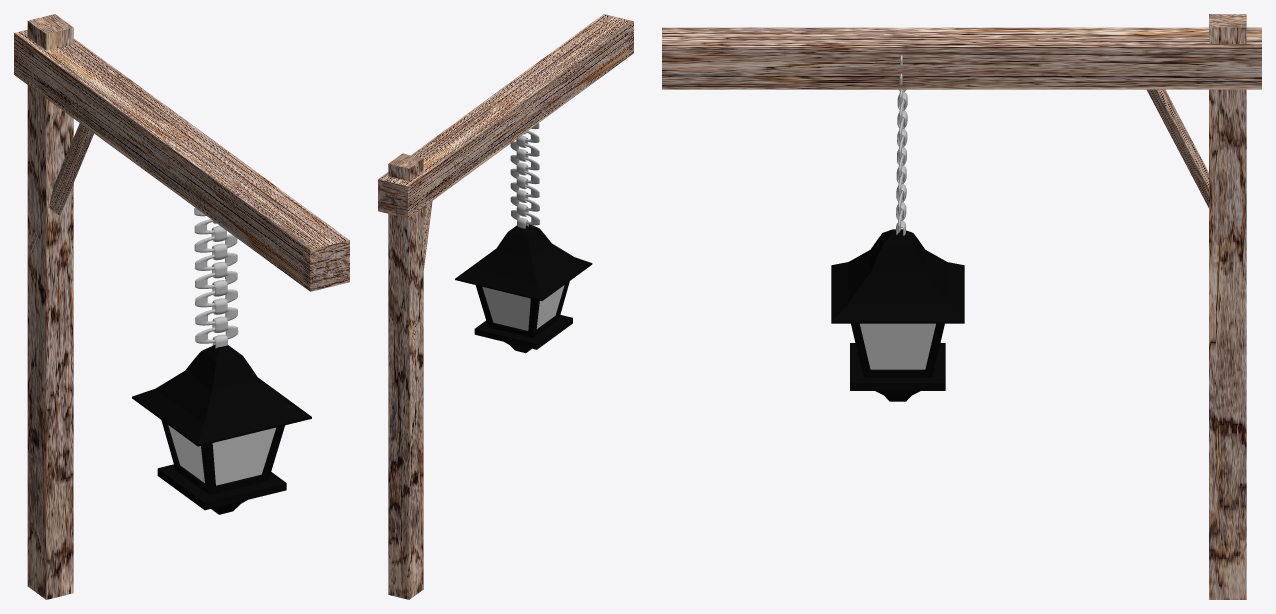
Rendered from lampada da floresta.fbx.
3 renders of one model, left to right at view 1: azimuth 30°, elevation 25°; view 2: azimuth 150°, elevation 25°; view 3: azimuth 270°, elevation 25°, orthographic. The views are drawn at different scales.
Visible parts, largest first — view 1: Cube.001, Cube, Torus.001, Cube.003; view 2: Cube, Cube.001, Torus.001, Cube.003; view 3: Cube.001, Cube, Torus.001, Cube.003.
Part boxes in pixels (x1,y1,x2,y2): Cube.001: (14, 29, 349, 291); Cube: (27, 14, 73, 599); Torus.001: (132, 207, 311, 514); Cube.003: (29, 123, 93, 253); Cube: (388, 153, 423, 599); Cube.001: (378, 14, 633, 218); Torus.001: (455, 123, 592, 353); Cube.003: (410, 201, 432, 340); Cube.001: (662, 27, 1261, 89); Cube: (1209, 14, 1246, 599); Torus.001: (831, 55, 964, 401); Cube.003: (1147, 89, 1208, 207).
Bounding box in the file's own units: 338 × 1601 × 1520.
